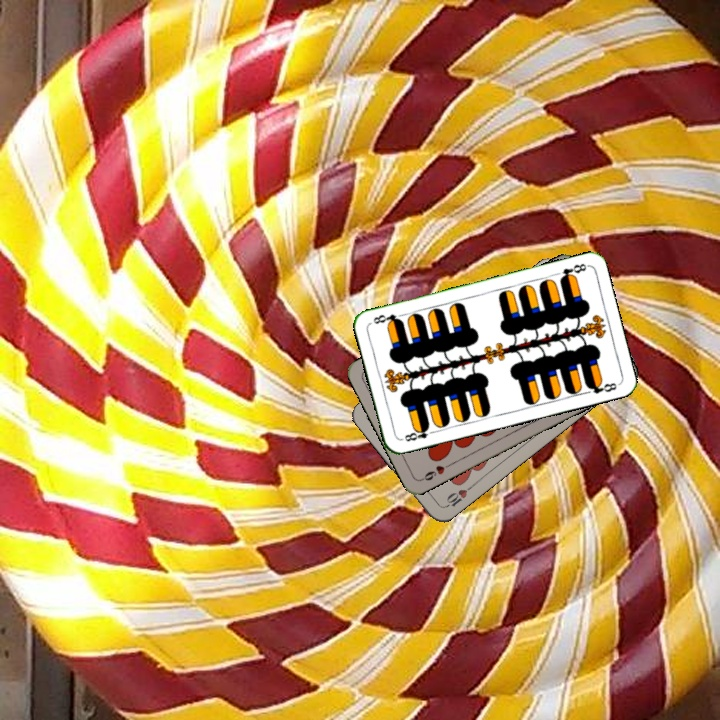E8: (398, 422, 438, 444), (556, 259, 590, 283)
H10: (440, 482, 475, 511)
H9: (417, 459, 455, 483)
